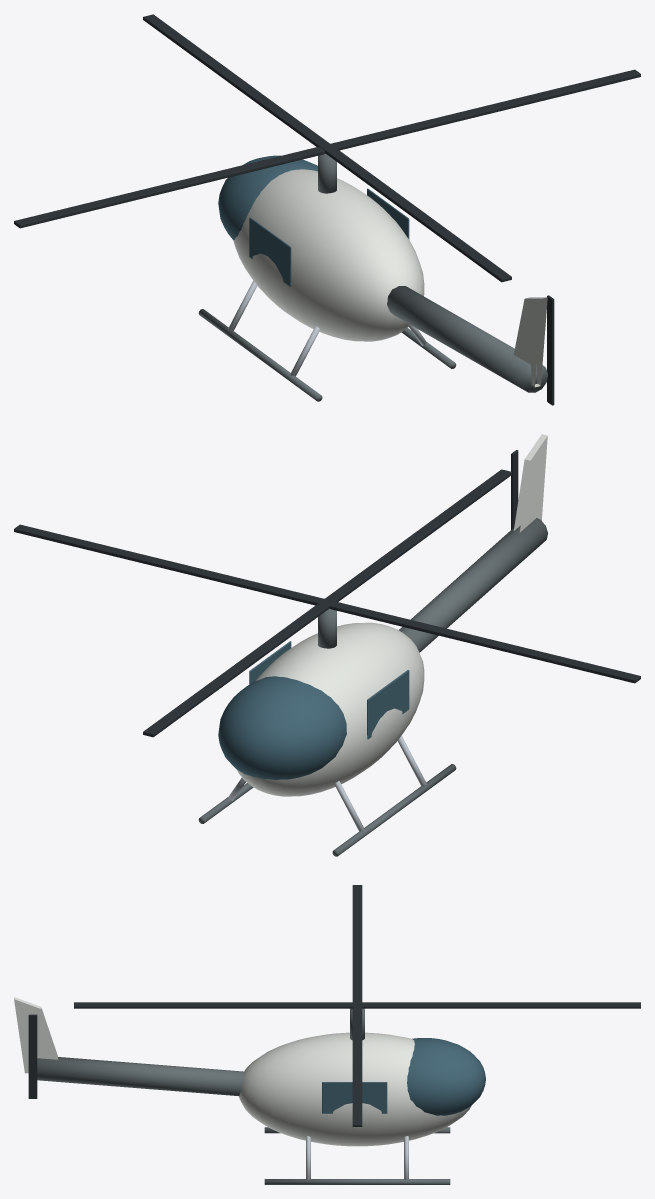
Rendered from mc_helicopter.glb.
3 views of the same model, one above another, from view 1: azimuth 30°, elevation 25°; view 2: azimuth 150°, elevation 25°; view 3: azimuth 270°, elevation 25° (orthographic). The views are drawn at different scales.
Visible parts, largest first — view 1: mc_helicopter__Geometry, mc_helicopter__Rotor, mc_helicopter__RotorCross, mc_helicopter__TailRotor, mc_helicopter__RotorMast; view 2: mc_helicopter__Geometry, mc_helicopter__Rotor, mc_helicopter__RotorCross, mc_helicopter__RotorMast; view 3: mc_helicopter__Geometry, mc_helicopter__RotorCross, mc_helicopter__Rotor, mc_helicopter__TailRotor.
Boxes of the visible parts, box(x1,y1,x2,y2) form: mc_helicopter__Geometry: box(198, 155, 547, 401); mc_helicopter__Rotor: box(14, 69, 640, 228); mc_helicopter__RotorCross: box(143, 14, 511, 282); mc_helicopter__TailRotor: box(547, 295, 554, 405); mc_helicopter__RotorMast: box(318, 153, 336, 193); mc_helicopter__Geometry: box(198, 434, 547, 856); mc_helicopter__Rotor: box(14, 524, 640, 683); mc_helicopter__RotorCross: box(143, 469, 511, 737); mc_helicopter__RotorMast: box(318, 608, 336, 648); mc_helicopter__Geometry: box(14, 997, 485, 1184); mc_helicopter__RotorCross: box(74, 1002, 640, 1008); mc_helicopter__Rotor: box(352, 885, 362, 1126); mc_helicopter__TailRotor: box(28, 1014, 37, 1098).
Bounding box in the file's own units: 10.4 × 3.25 × 11.5.
